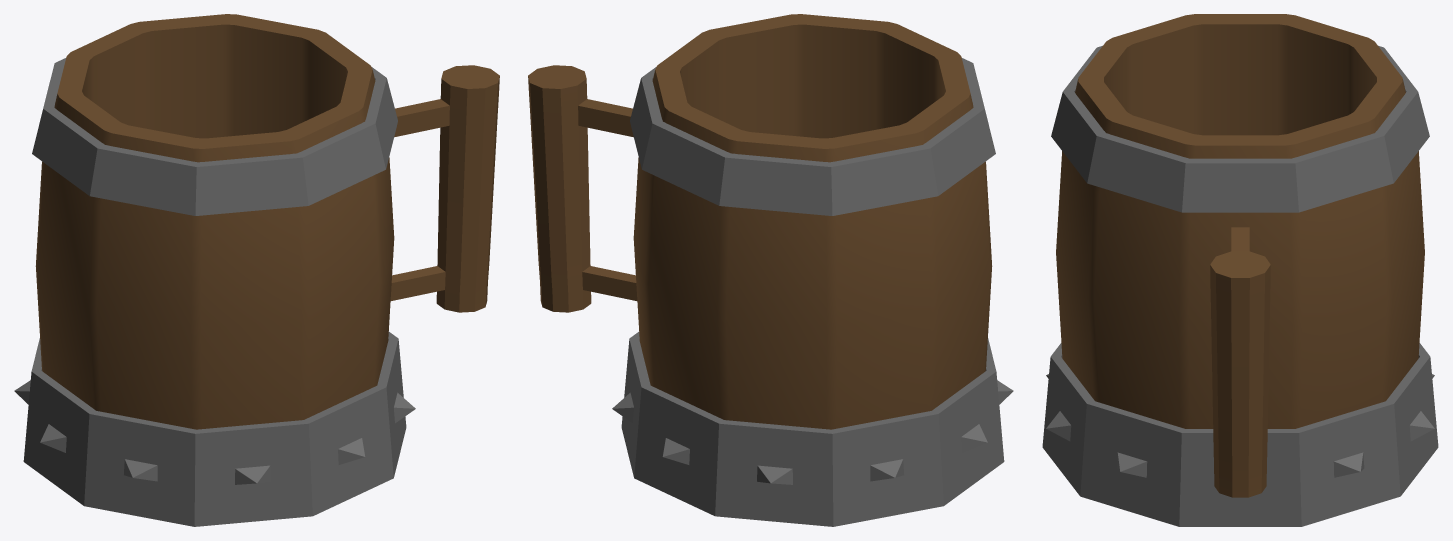
The model's file is Krug.fbx.
The picture shows the model from 3 angles, left to right: view 1: azimuth 30°, elevation 25°; view 2: azimuth 150°, elevation 25°; view 3: azimuth 270°, elevation 25°; orthographic projection.
Parts seen in each view (by area): view 1: Mug; view 2: Mug; view 3: Mug.
Part boxes in pixels (x1,y1,x2,y2): Mug: (14,14,499,526); Mug: (528,14,1013,526); Mug: (1042,14,1438,526).
Bounding box in the file's own units: 109 × 83.38 × 81.41.
